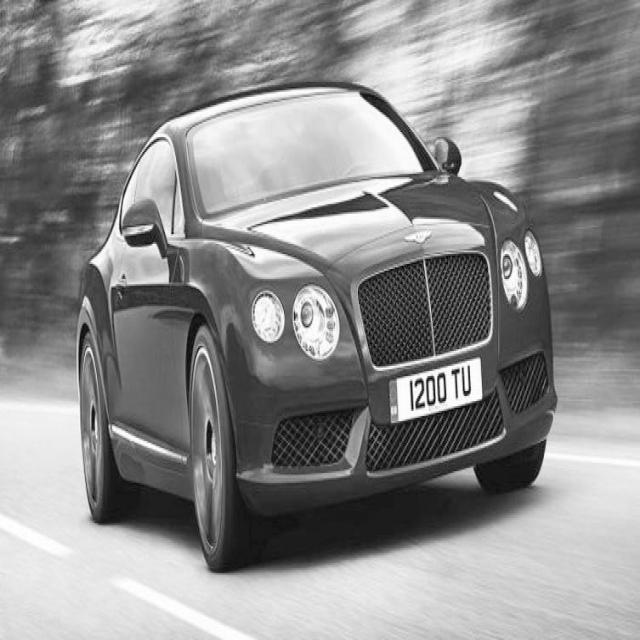car: (75, 77, 558, 571)
plat_license: (388, 354, 482, 424)
